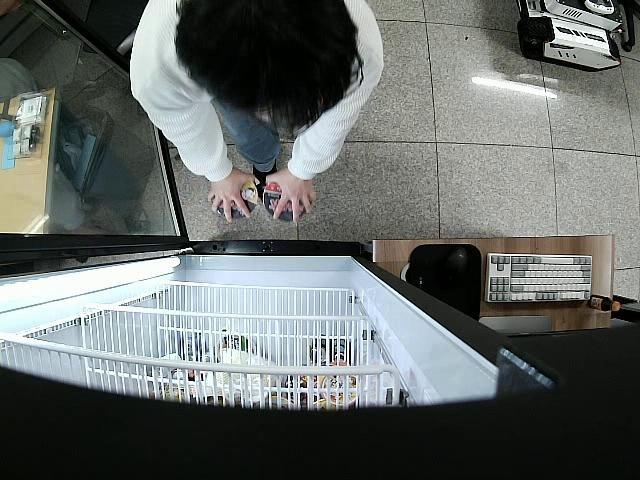07_buldak_L: (265, 180, 304, 221), (215, 184, 258, 220)
